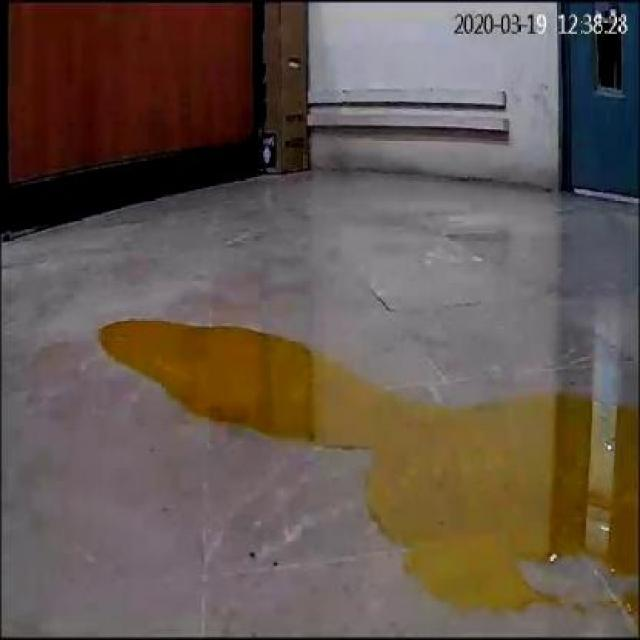spill: (90, 318, 638, 612)
